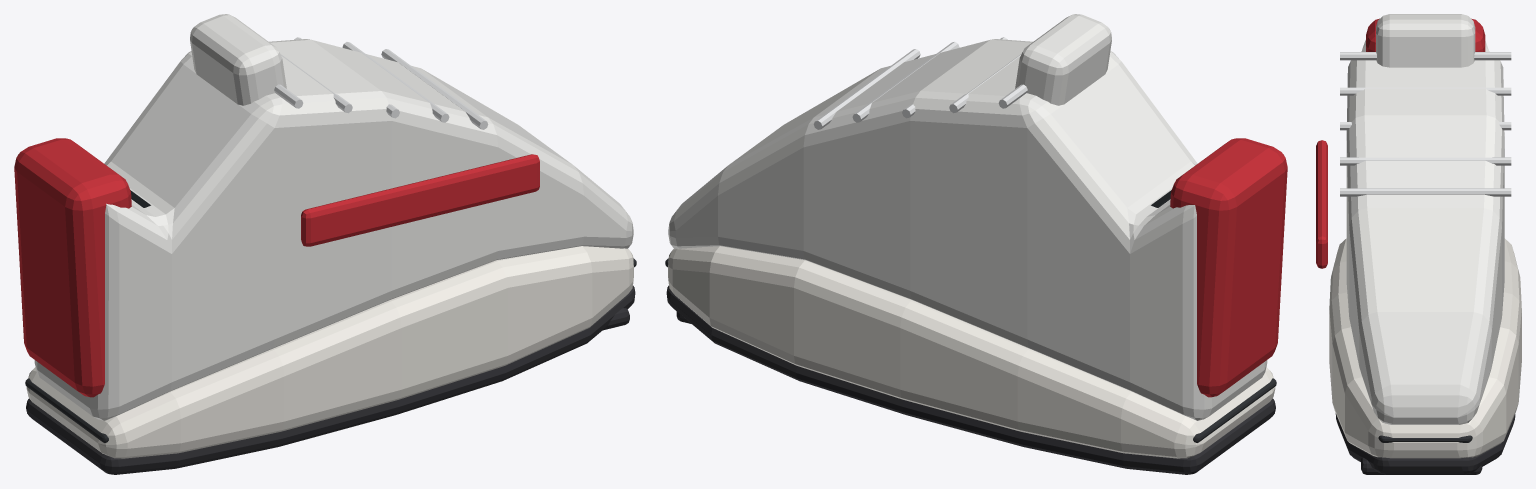
The model's file is nike-vaporfly-4pct-study.glb.
The picture shows the model from 3 angles, left to right: view 1: azimuth 30°, elevation 25°; view 2: azimuth 150°, elevation 25°; view 3: azimuth 270°, elevation 25°; orthographic projection. The views are drawn at different scales.
Parts seen in each view (by area): view 1: nike-vaporfly-4pct-study_UPPER, nike-vaporfly-4pct-study_MIDSOLE, nike-vaporfly-4pct-study_HEEL_COUNTER, nike-vaporfly-4pct-study_OUTSOLE, nike-vaporfly-4pct-study_MUSEUM_ID_PANEL, nike-vaporfly-4pct-study_TONGUE, nike-vaporfly-4pct-study, nike-vaporfly-4pct-study_CARBON_FLYPLATE; view 2: nike-vaporfly-4pct-study_UPPER, nike-vaporfly-4pct-study_MIDSOLE, nike-vaporfly-4pct-study_HEEL_COUNTER, nike-vaporfly-4pct-study_OUTSOLE, nike-vaporfly-4pct-study_TONGUE, nike-vaporfly-4pct-study, nike-vaporfly-4pct-study_CARBON_FLYPLATE; view 3: nike-vaporfly-4pct-study_UPPER, nike-vaporfly-4pct-study_MIDSOLE, nike-vaporfly-4pct-study_TONGUE, nike-vaporfly-4pct-study, nike-vaporfly-4pct-study_OUTSOLE, nike-vaporfly-4pct-study_MUSEUM_ID_PANEL, nike-vaporfly-4pct-study_HEEL_COUNTER, nike-vaporfly-4pct-study_CARBON_FLYPLATE.
Part boxes in pixels (x1=…): nike-vaporfly-4pct-study_UPPER: x1=34, y1=39, x2=633, y2=420; nike-vaporfly-4pct-study_MIDSOLE: x1=26, y1=246, x2=633, y2=458; nike-vaporfly-4pct-study_HEEL_COUNTER: x1=14, y1=138, x2=131, y2=397; nike-vaporfly-4pct-study_OUTSOLE: x1=26, y1=285, x2=635, y2=474; nike-vaporfly-4pct-study_MUSEUM_ID_PANEL: x1=301, y1=154, x2=539, y2=246; nike-vaporfly-4pct-study_TONGUE: x1=190, y1=14, x2=286, y2=105; nike-vaporfly-4pct-study: x1=274, y1=37, x2=629, y2=330; nike-vaporfly-4pct-study_CARBON_FLYPLATE: x1=25, y1=258, x2=636, y2=442; nike-vaporfly-4pct-study_UPPER: x1=668, y1=39, x2=1267, y2=420; nike-vaporfly-4pct-study_MIDSOLE: x1=668, y1=246, x2=1275, y2=458; nike-vaporfly-4pct-study_HEEL_COUNTER: x1=1170, y1=138, x2=1287, y2=397; nike-vaporfly-4pct-study_OUTSOLE: x1=666, y1=285, x2=1275, y2=474; nike-vaporfly-4pct-study_TONGUE: x1=1015, y1=14, x2=1111, y2=105; nike-vaporfly-4pct-study: x1=676, y1=37, x2=1027, y2=323; nike-vaporfly-4pct-study_CARBON_FLYPLATE: x1=665, y1=258, x2=1276, y2=442; nike-vaporfly-4pct-study_UPPER: x1=1346, y1=40, x2=1504, y2=424; nike-vaporfly-4pct-study_MIDSOLE: x1=1329, y1=238, x2=1521, y2=458; nike-vaporfly-4pct-study_TONGUE: x1=1376, y1=14, x2=1475, y2=67; nike-vaporfly-4pct-study: x1=1340, y1=52, x2=1511, y2=474; nike-vaporfly-4pct-study_OUTSOLE: x1=1335, y1=413, x2=1515, y2=474; nike-vaporfly-4pct-study_MUSEUM_ID_PANEL: x1=1316, y1=140, x2=1327, y2=268; nike-vaporfly-4pct-study_HEEL_COUNTER: x1=1366, y1=18, x2=1485, y2=51; nike-vaporfly-4pct-study_CARBON_FLYPLATE: x1=1378, y1=435, x2=1472, y2=442.
Size of the model in its own units: 0.2887 by 0.1827 by 0.1034.
